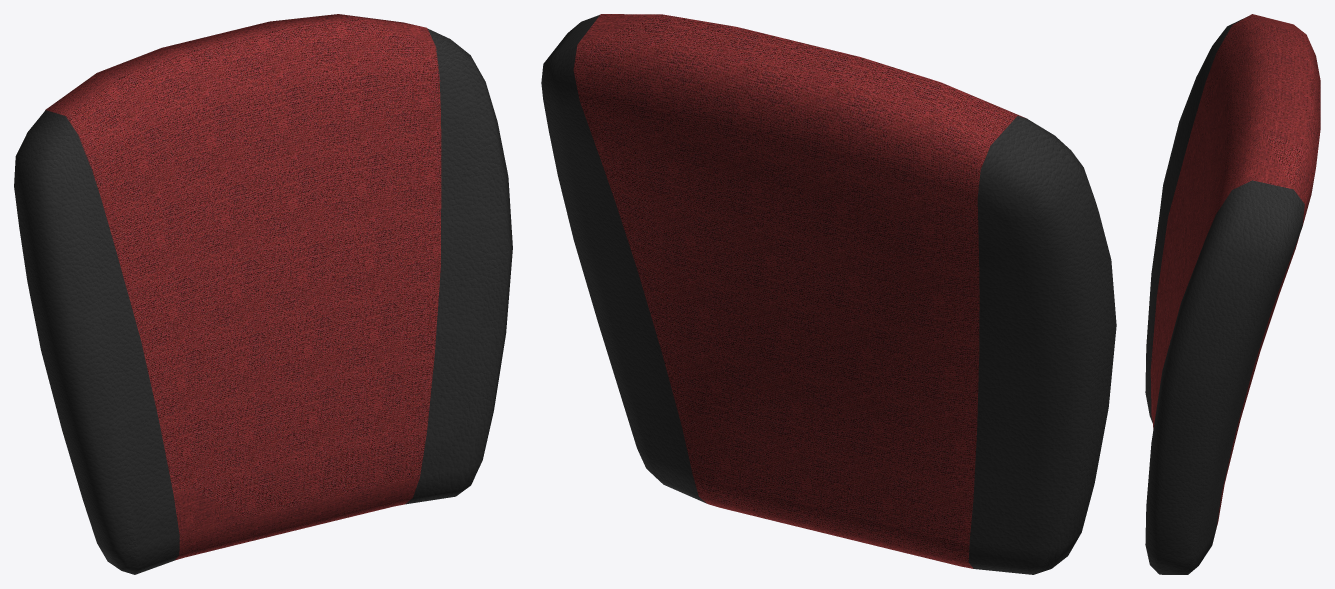
3 views of the same model, side by side, from view 1: azimuth 30°, elevation 25°; view 2: azimuth 150°, elevation 25°; view 3: azimuth 270°, elevation 25° (orthographic). The views are drawn at different scales.
Parts seen in each view (by area): view 1: part10:backrest 1; view 2: part10:backrest 1; view 3: part10:backrest 1.
Boxes of the visible parts, x1=… form: part10:backrest 1: x1=14, y1=14, x2=512, y2=574; part10:backrest 1: x1=541, y1=14, x2=1116, y2=574; part10:backrest 1: x1=1145, y1=14, x2=1320, y2=574.
Size of the model in its own units: 0.4741 by 0.4488 by 0.1659.
2 materials, 2 textured.
